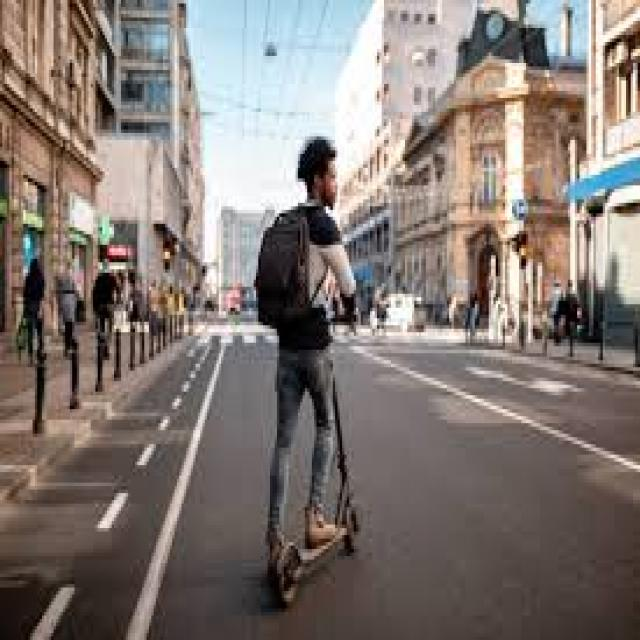non-helmet: (240, 124, 376, 613)
